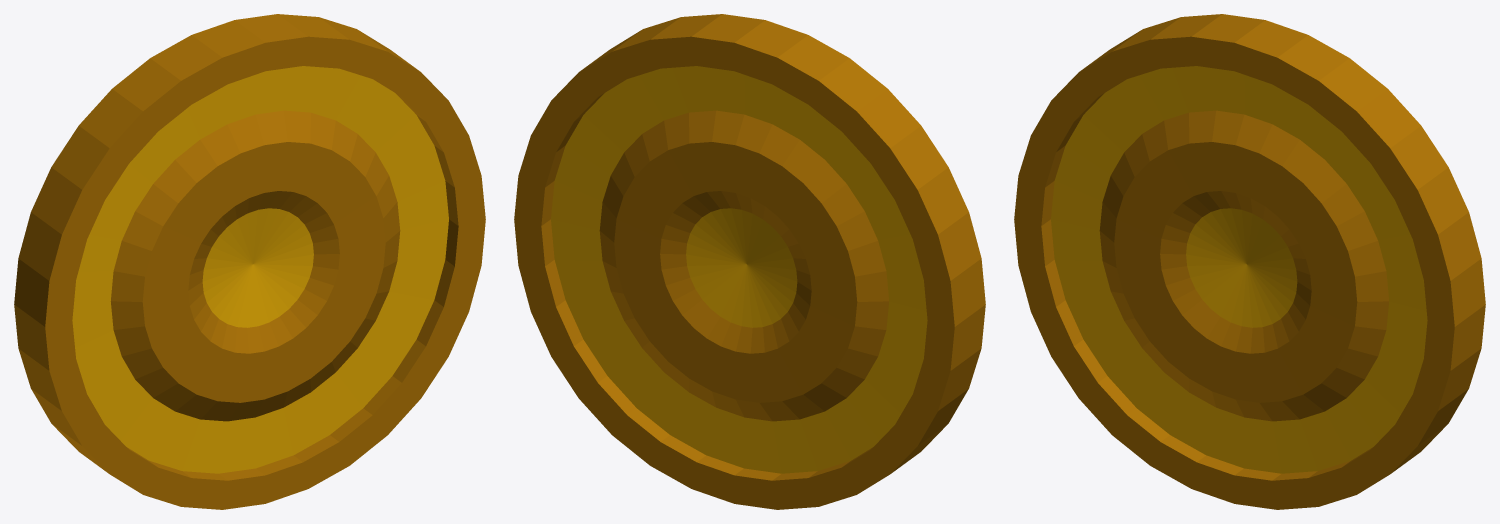
The model's file is coin.fbx.
3 renders of one model, left to right at view 1: azimuth 30°, elevation 25°; view 2: azimuth 150°, elevation 25°; view 3: azimuth 330°, elevation 25°, orthographic.
Visible parts, largest first — view 1: Coin; view 2: Coin; view 3: Coin.
Boxes of the visible parts, bbox=[...] form: Coin: bbox=[14, 14, 485, 509]; Coin: bbox=[514, 14, 985, 509]; Coin: bbox=[1014, 14, 1485, 509].
Bounding box in the file's own units: 200 × 200 × 24.41.
